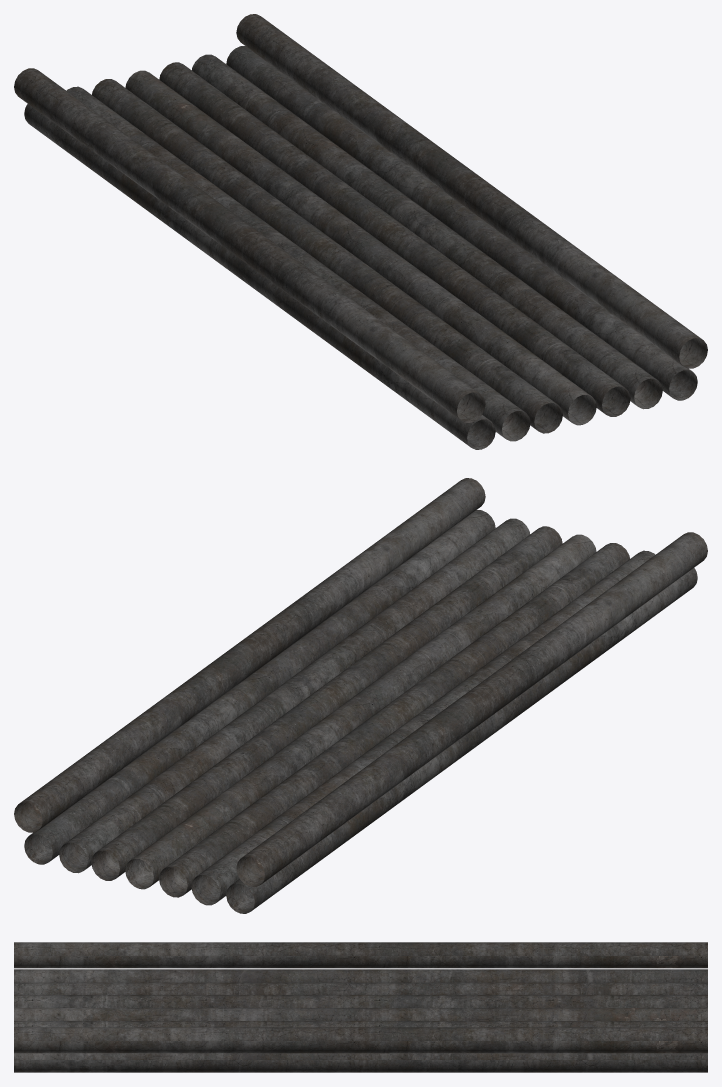
File: Pipes_Straight_4m.glb
3 views of the same model, one above another, from view 1: azimuth 30°, elevation 25°; view 2: azimuth 150°, elevation 25°; view 3: azimuth 270°, elevation 25° (orthographic). The views are drawn at different scales.
Parts seen in each view (by area): view 1: Pipes_Straight_4m; view 2: Pipes_Straight_4m; view 3: Pipes_Straight_4m.
Part boxes in pixels (box(x1,y1,x2,y2)): Pipes_Straight_4m: box(14, 14, 707, 449); Pipes_Straight_4m: box(14, 478, 707, 913); Pipes_Straight_4m: box(14, 942, 707, 1072).
Bounding box in the file's own units: 1.31 × 0.2967 × 4.
Materials: 1 (1 with a texture image).
